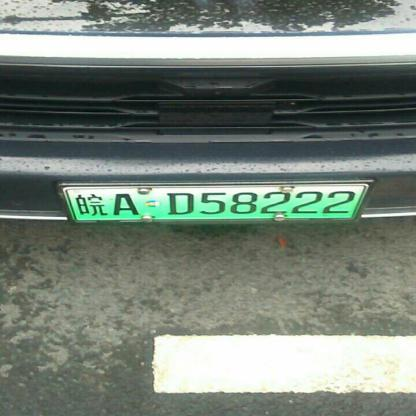lp: (62, 184, 368, 225)
